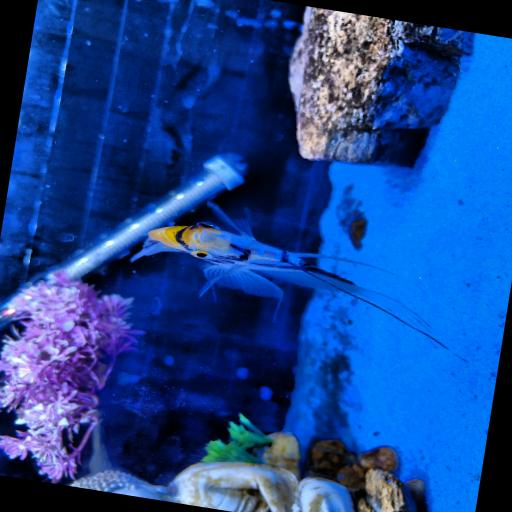Fish: (131, 202, 448, 350)
